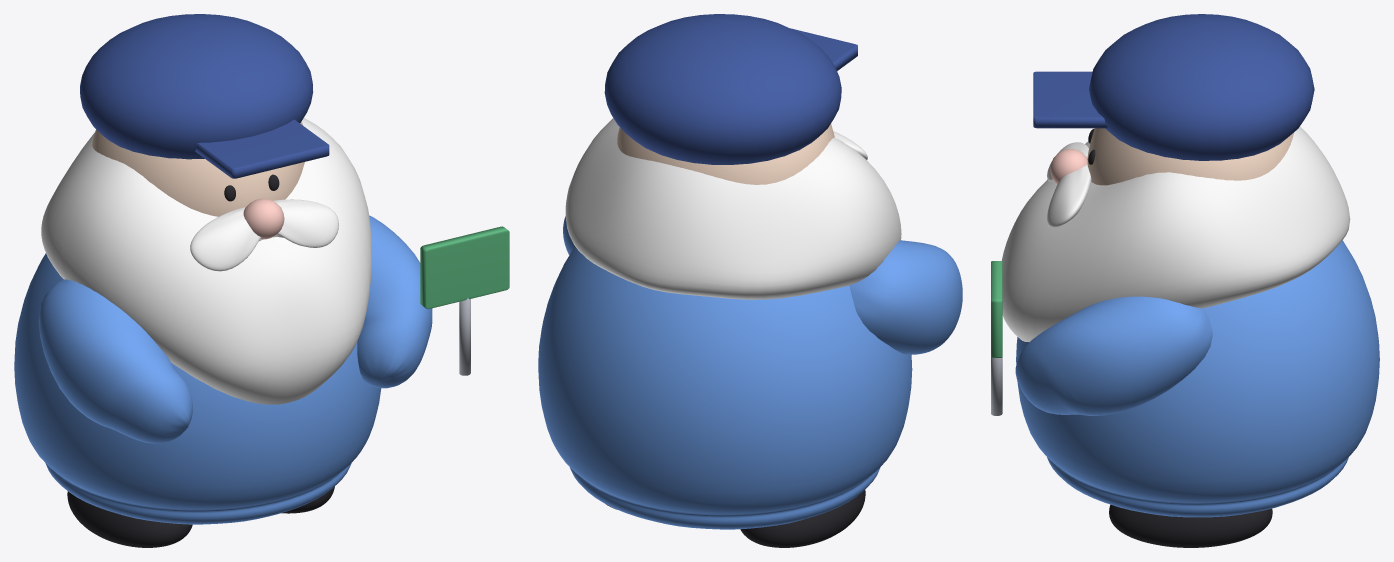
File: bus.glb
3 views of the same model, side by side, from view 1: azimuth 30°, elevation 25°; view 2: azimuth 150°, elevation 25°; view 3: azimuth 270°, elevation 25° (orthographic). The views are drawn at different scales.
Parts seen in each view (by area): view 1: bus_red, bus_white, bus_navy, bus_skin, bus_green, bus_black, bus_nose, bus_grey; view 2: bus_red, bus_white, bus_navy, bus_skin, bus_black; view 3: bus_red, bus_white, bus_navy, bus_skin, bus_black, bus_green, bus_nose, bus_grey.
Boxes of the visible parts, <box> form: bus_red: <box>14,215,432,524</box>; bus_white: <box>41,118,371,404</box>; bus_navy: <box>80,14,329,178</box>; bus_skin: <box>92,121,304,216</box>; bus_green: <box>420,226,509,309</box>; bus_black: <box>67,174,334,547</box>; bus_nose: <box>243,198,284,239</box>; bus_grey: <box>459,298,470,375</box>; bus_red: <box>538,216,962,529</box>; bus_white: <box>565,118,901,299</box>; bus_navy: <box>604,14,857,164</box>; bus_skin: <box>617,124,834,184</box>; bus_black: <box>606,490,865,547</box>; bus_red: <box>1015,240,1379,517</box>; bus_white: <box>1001,126,1350,341</box>; bus_navy: <box>1033,14,1314,160</box>; bus_skin: <box>1087,128,1293,185</box>; bus_black: <box>1088,128,1272,547</box>; bus_green: <box>991,261,1002,357</box>; bus_nose: <box>1050,149,1087,184</box>; bus_grey: <box>991,356,1002,415</box>.
Bounding box in the file's own units: 2.3 × 2.7 × 2.03.
